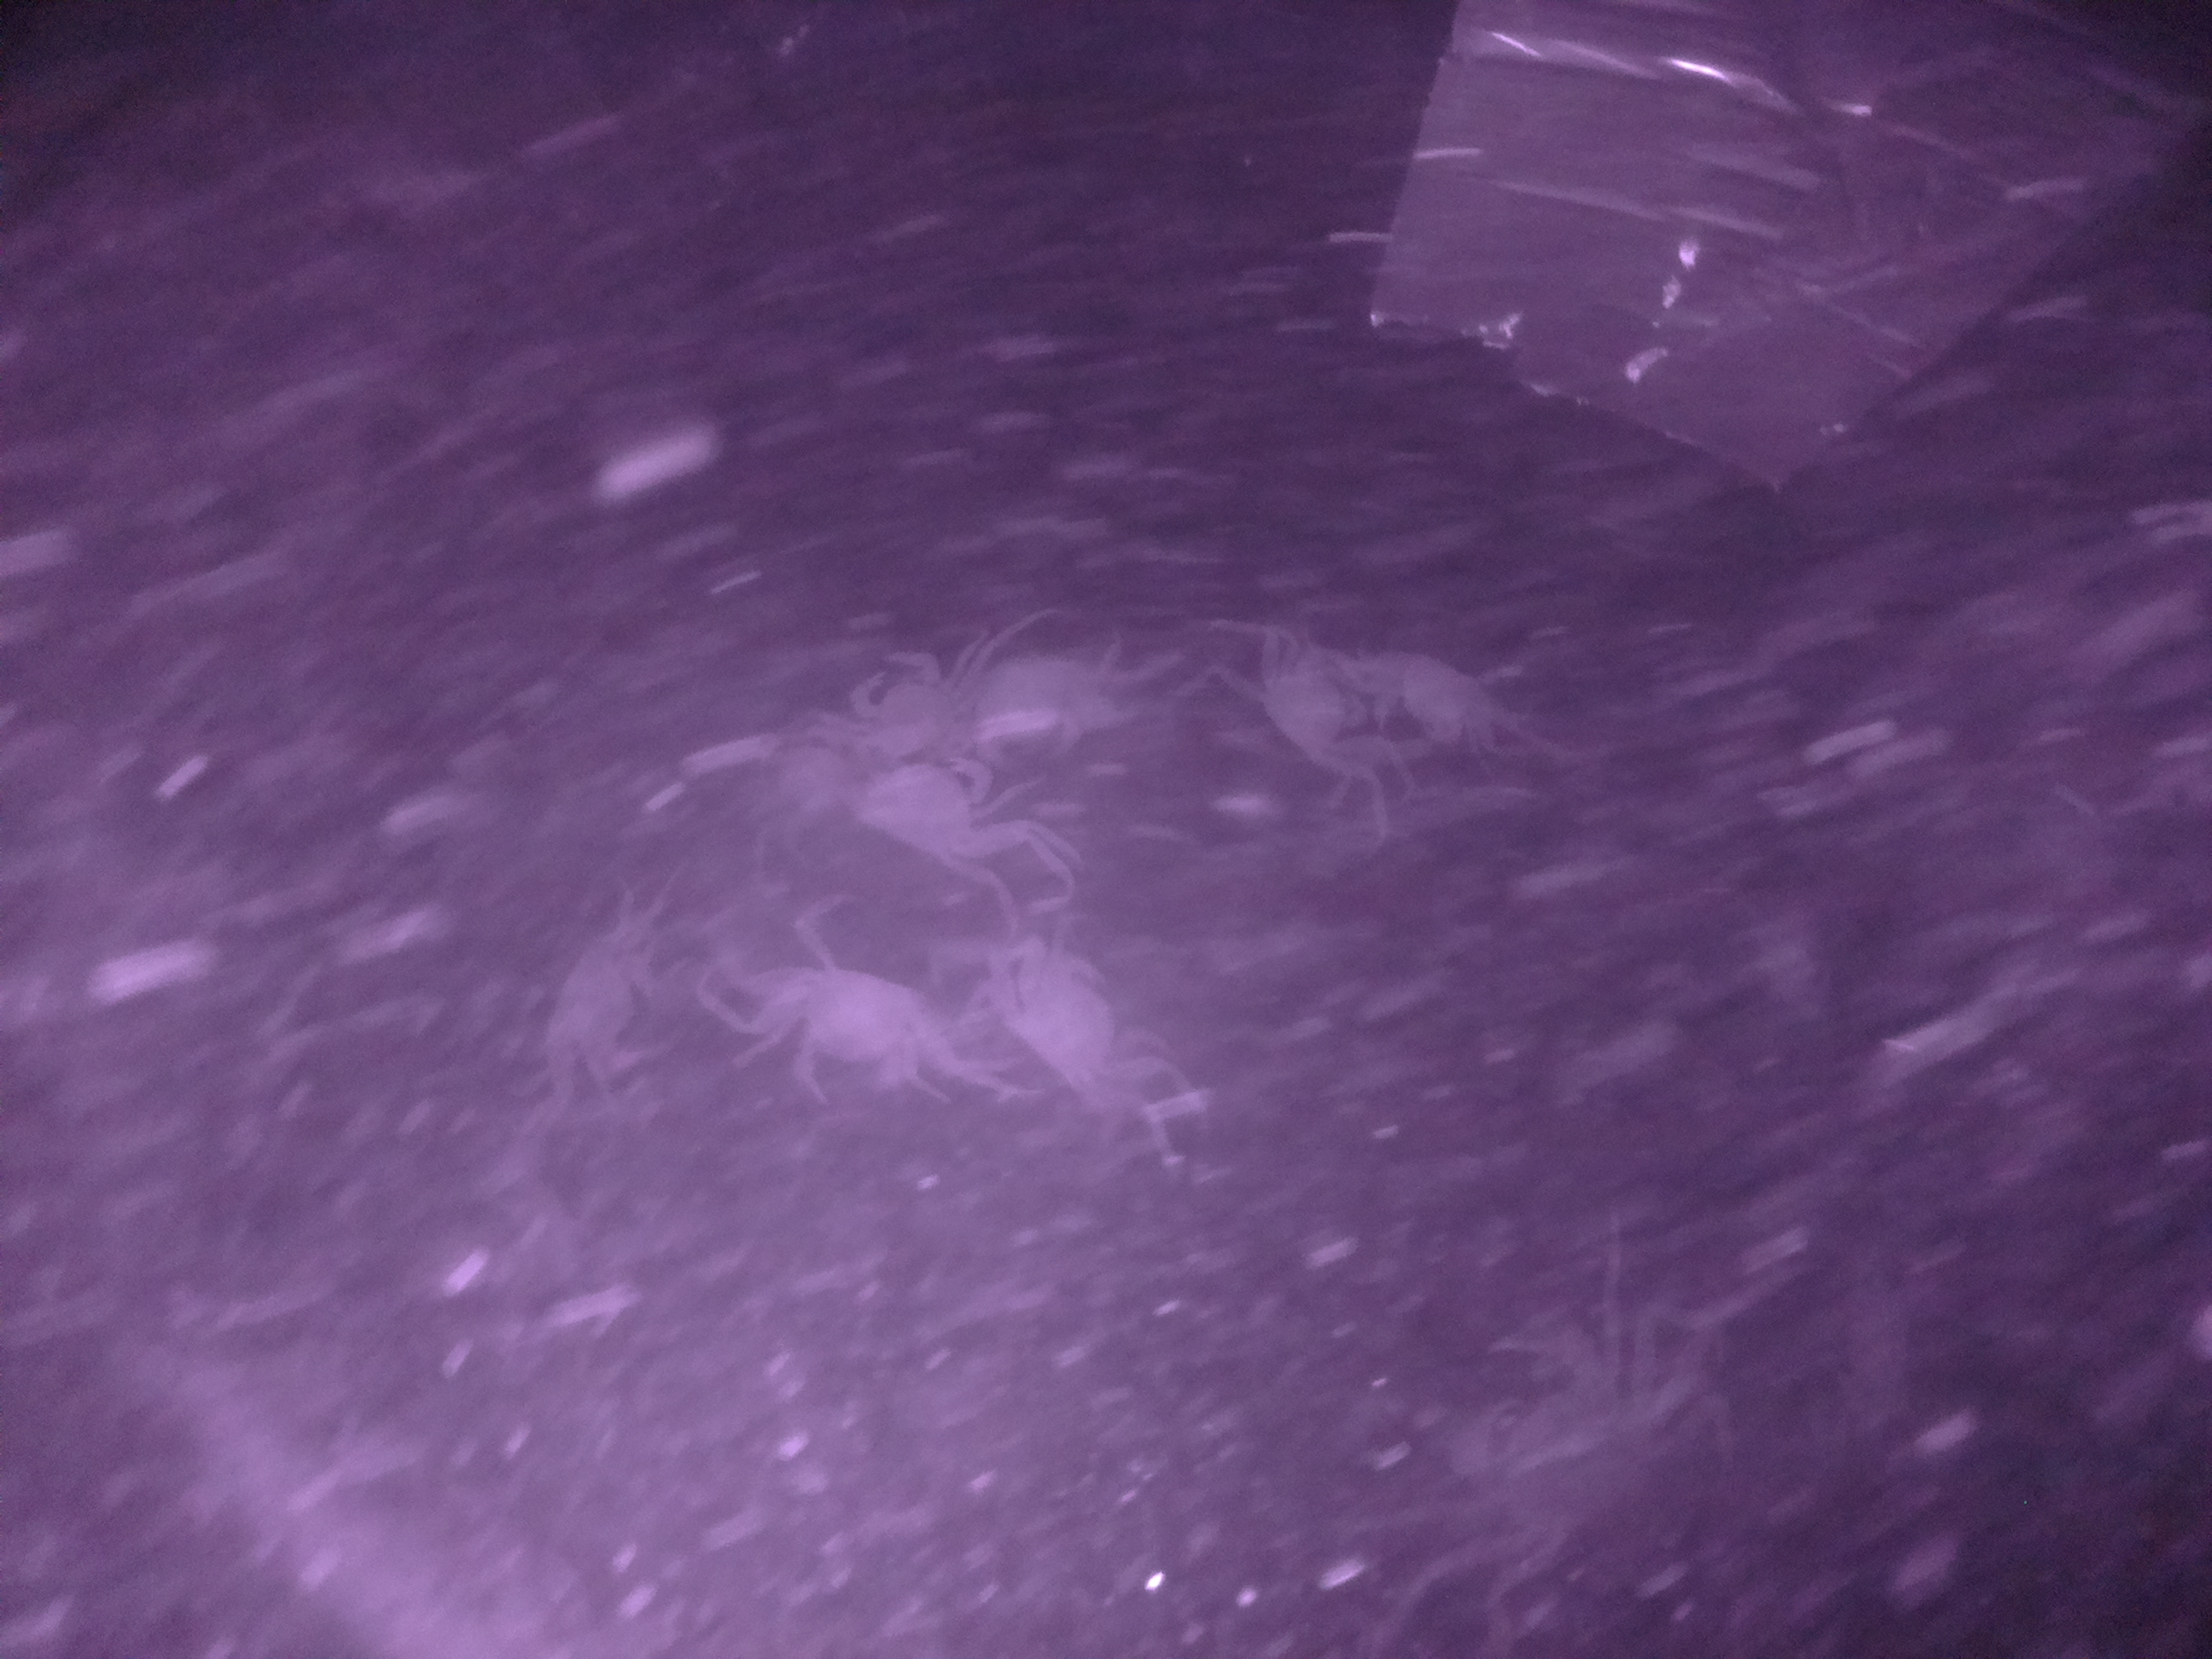Crab: (981, 925, 1162, 1145), (751, 946, 970, 1117), (524, 890, 681, 1121), (817, 739, 1019, 887)
